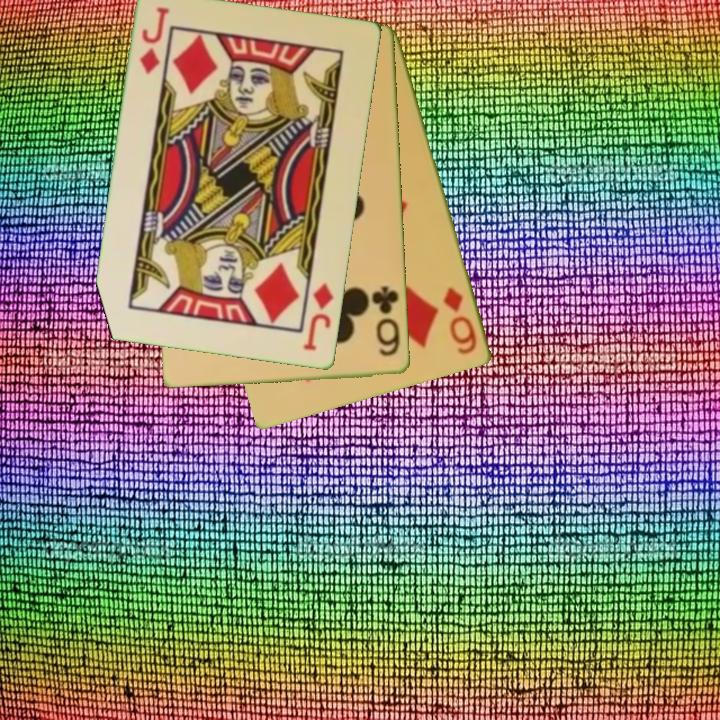6c: (369, 283, 404, 360)
6d: (440, 284, 480, 358)
Jd: (300, 279, 337, 354), (136, 4, 173, 78)
